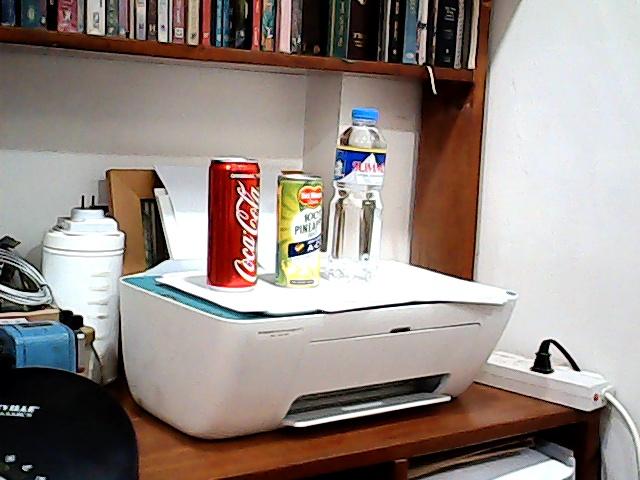Cola: (205, 157, 258, 286)
Pine Juice: (275, 169, 322, 281)
Summit Water: (335, 112, 379, 279)
